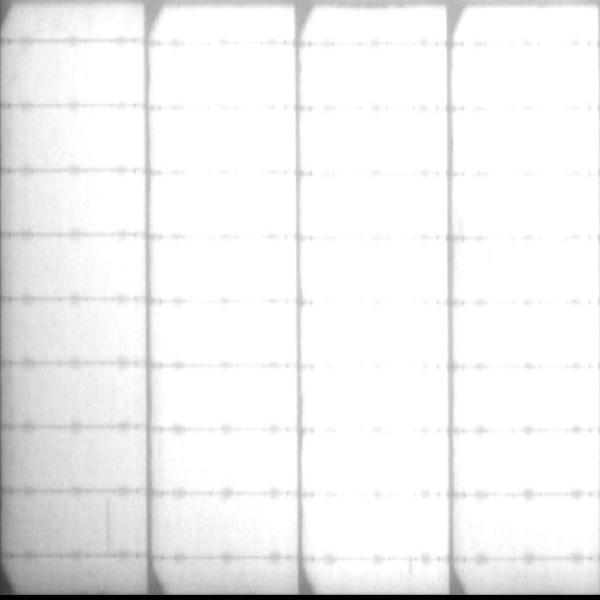hot_spot: (309, 241, 442, 555), (457, 111, 594, 170), (457, 243, 599, 299), (458, 437, 600, 492), (160, 175, 292, 234), (154, 47, 292, 103), (460, 499, 600, 554), (461, 372, 600, 425), (308, 181, 445, 234), (307, 115, 444, 167), (462, 308, 596, 361), (459, 180, 595, 232), (304, 53, 447, 102), (162, 241, 294, 294), (161, 308, 293, 361), (456, 50, 592, 101), (157, 119, 292, 167), (170, 378, 294, 423), (194, 499, 295, 554), (168, 440, 290, 485), (314, 7, 444, 39), (465, 11, 595, 39), (316, 565, 433, 591)
